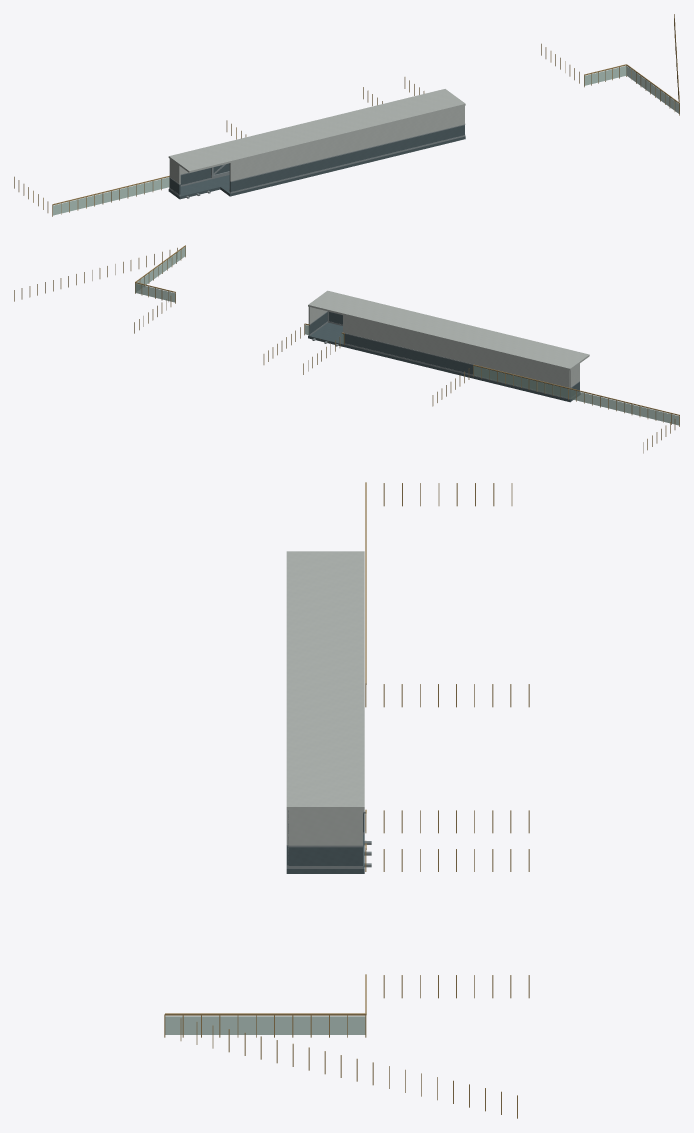
The model's file is FAMILY_D13_STAFF_RECEIVING_r001.glb.
3 renders of one model, top to bottom at view 1: azimuth 30°, elevation 25°; view 2: azimuth 150°, elevation 25°; view 3: azimuth 270°, elevation 25°, orthographic. The views are drawn at different scales.
Parts seen in each view (by area): view 1: F13_Canopy, F13_Edge0_Enamel, F13_Edge0_Dado, PATCH_FT_Batch_302, F13_MissingFloor, PATCH_FT_Batch_300, F13_Edge0_Toe, F13_Edge1_Dado, F13_Edge0_Reveal; view 2: F13_Canopy, F13_Edge1_Enamel, PATCH_FT_Batch_302, PATCH_FT_Batch_300, F13_Edge1_Dado, F13_MissingFloor, F13_Edge1_Toe; view 3: F13_Canopy, PATCH_FT_Batch_300, PATCH_FT_Batch_302, F13_Edge2_Enamel, F13_Edge2_Dado.
Boxes of the visible parts, <box> form: F13_Canopy: <box>168,89,465,172</box>; F13_Edge0_Enamel: <box>230,106,464,181</box>; F13_Edge0_Dado: <box>230,125,464,191</box>; PATCH_FT_Batch_302: <box>53,65,679,215</box>; F13_MissingFloor: <box>168,136,465,199</box>; PATCH_FT_Batch_300: <box>14,14,679,216</box>; F13_Edge0_Toe: <box>230,135,464,193</box>; F13_Edge1_Dado: <box>180,163,229,184</box>; F13_Edge0_Reveal: <box>230,124,464,181</box>; F13_Canopy: <box>308,290,589,370</box>; F13_Edge1_Enamel: <box>343,315,569,387</box>; PATCH_FT_Batch_302: <box>135,247,679,425</box>; PATCH_FT_Batch_300: <box>14,245,679,453</box>; F13_Edge1_Dado: <box>343,334,569,397</box>; F13_MissingFloor: <box>308,323,579,402</box>; F13_Edge1_Toe: <box>343,343,569,399</box>; F13_Canopy: <box>286,551,364,810</box>; PATCH_FT_Batch_300: <box>164,482,529,1118</box>; PATCH_FT_Batch_302: <box>165,832,365,1034</box>; F13_Edge2_Enamel: <box>288,810,362,845</box>; F13_Edge2_Dado: <box>288,847,362,865</box>.
Bounding box in the file's own units: 63.21 × 3.22 × 15.91.
8 materials, 6 textured.
